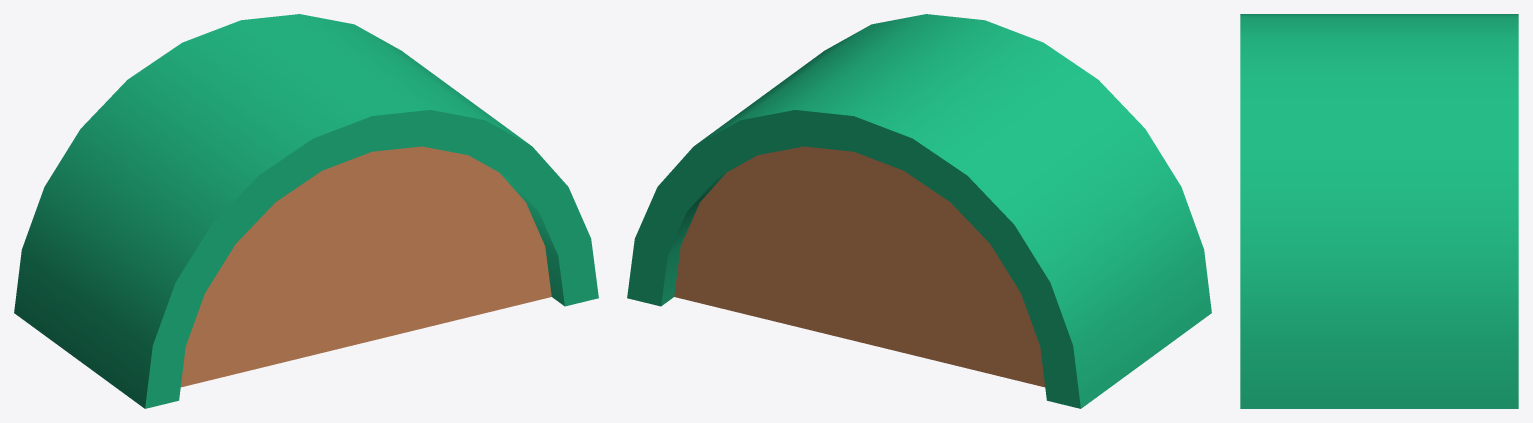
Rendered from blockCurve.obj.
The picture shows the model from 3 angles, left to right: view 1: azimuth 30°, elevation 25°; view 2: azimuth 150°, elevation 25°; view 3: azimuth 270°, elevation 25°; orthographic projection. The views are drawn at different scales.
Visible parts, largest first — view 1: blockCurve; view 2: blockCurve; view 3: blockCurve.
Boxes of the visible parts, <box> form: blockCurve: <box>14,14,598,408</box>; blockCurve: <box>627,14,1211,408</box>; blockCurve: <box>1240,14,1518,408</box>.
Bounding box in the file's own units: 2 × 1 × 1.
